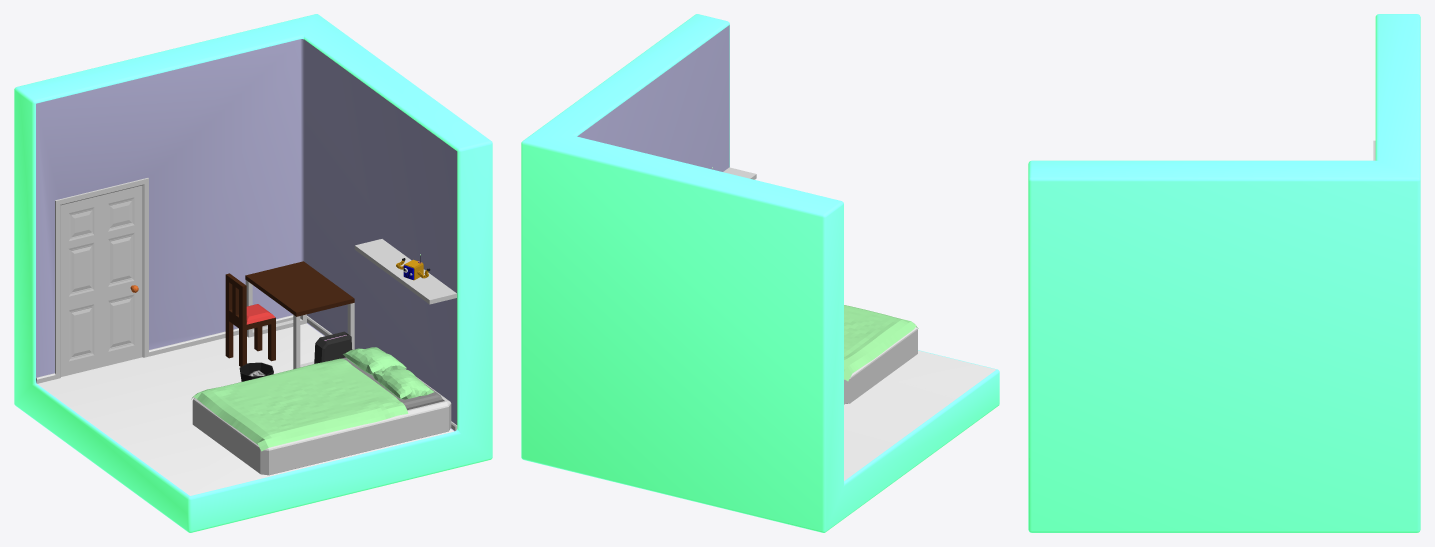
The model's file is CozyRoom_8.glb.
3 renders of one model, left to right at view 1: azimuth 30°, elevation 25°; view 2: azimuth 150°, elevation 25°; view 3: azimuth 270°, elevation 25°, orthographic. The views are drawn at different scales.
Parts seen in each view (by area): view 1: Cube.026, Cube.004, Plane.005, Cube.002, Cube.015, Cube.023, Cube.008, Cube.007, Plane.007, Cube.005, Plane.006, Cube.012 (+2 smaller); view 2: Cube.026, Plane.005, Cube.002; view 3: Cube.026.
Part boxes in pixels (bbox=[...]): Cube.026: bbox=[14, 14, 492, 532]; Cube.004: bbox=[61, 185, 142, 376]; Plane.005: bbox=[191, 358, 408, 451]; Cube.002: bbox=[192, 357, 451, 475]; Cube.015: bbox=[245, 261, 354, 369]; Cube.023: bbox=[225, 273, 275, 366]; Cube.008: bbox=[354, 239, 456, 304]; Cube.007: bbox=[142, 178, 148, 357]; Plane.007: bbox=[372, 369, 433, 399]; Cube.005: bbox=[55, 199, 60, 379]; Plane.006: bbox=[343, 347, 406, 374]; Cube.012: bbox=[314, 331, 352, 363]; Cube.026: bbox=[521, 14, 999, 532]; Plane.005: bbox=[844, 305, 918, 381]; Cube.002: bbox=[844, 327, 917, 404]; Cube.026: bbox=[1028, 14, 1420, 532].
Bounding box in the file's own units: 2.26 × 2.26 × 2.26.
